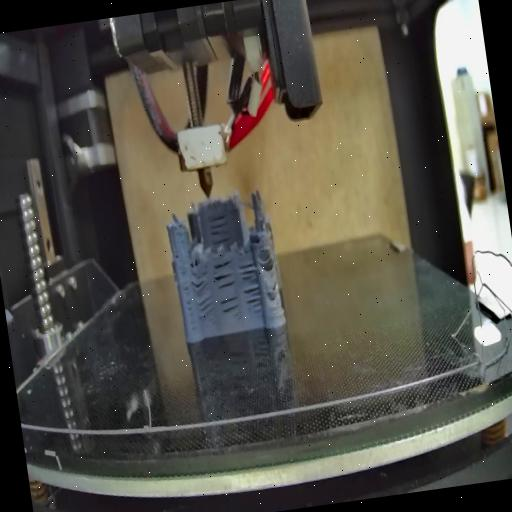cracks: (238, 260, 264, 318), (180, 268, 198, 334), (208, 254, 236, 291), (205, 206, 231, 245), (190, 262, 210, 294), (218, 294, 242, 320), (197, 294, 217, 320), (262, 251, 276, 269), (174, 246, 181, 264), (270, 280, 280, 292)
